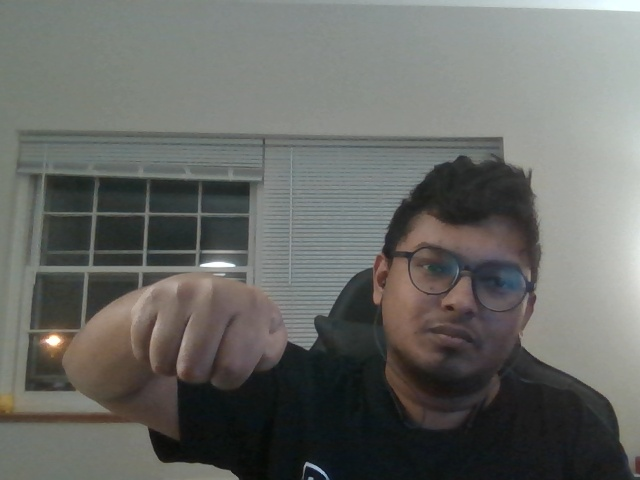yes: (104, 252, 322, 409)
